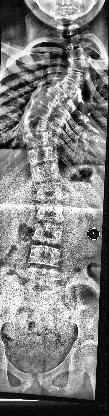Vertebrae: (30, 243, 64, 267), (26, 266, 70, 284), (32, 224, 64, 244), (33, 183, 65, 203), (32, 164, 64, 182), (25, 112, 49, 134), (38, 204, 64, 223), (58, 75, 80, 97), (23, 132, 53, 148), (28, 149, 58, 163), (30, 102, 50, 122), (47, 83, 67, 103), (38, 92, 58, 110), (66, 68, 84, 88), (66, 60, 88, 74), (68, 48, 88, 62), (64, 38, 84, 48)
